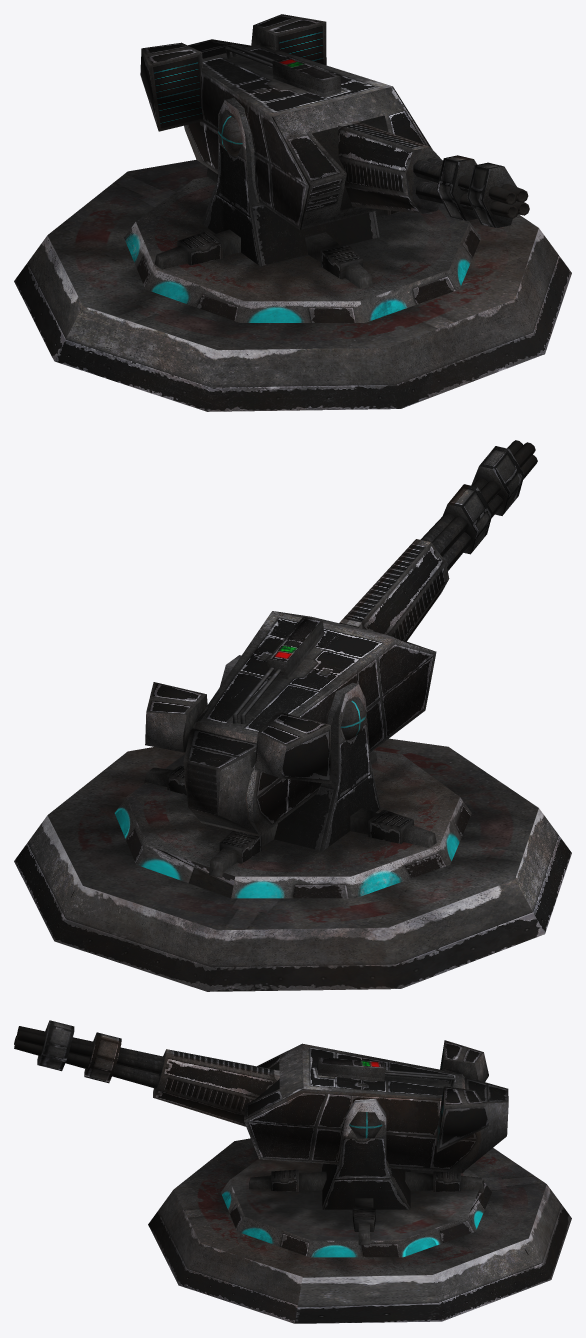
File: canon_plasma_lod1.obj
The picture shows the model from 3 angles, top to bottom: view 1: azimuth 30°, elevation 25°; view 2: azimuth 150°, elevation 25°; view 3: azimuth 270°, elevation 25°; orthographic projection. The views are drawn at different scales.
Visible parts, largest first — view 1: canon_plasma_lod1.obj; view 2: canon_plasma_lod1.obj; view 3: canon_plasma_lod1.obj.
Boxes of the visible parts, bbox=[...] form: canon_plasma_lod1.obj: bbox=[14, 14, 571, 411]; canon_plasma_lod1.obj: bbox=[14, 440, 571, 991]; canon_plasma_lod1.obj: bbox=[14, 1020, 571, 1323].
Size of the model in its own units: 2.29 by 1.29 by 3.05.
1 material, 1 textured.
